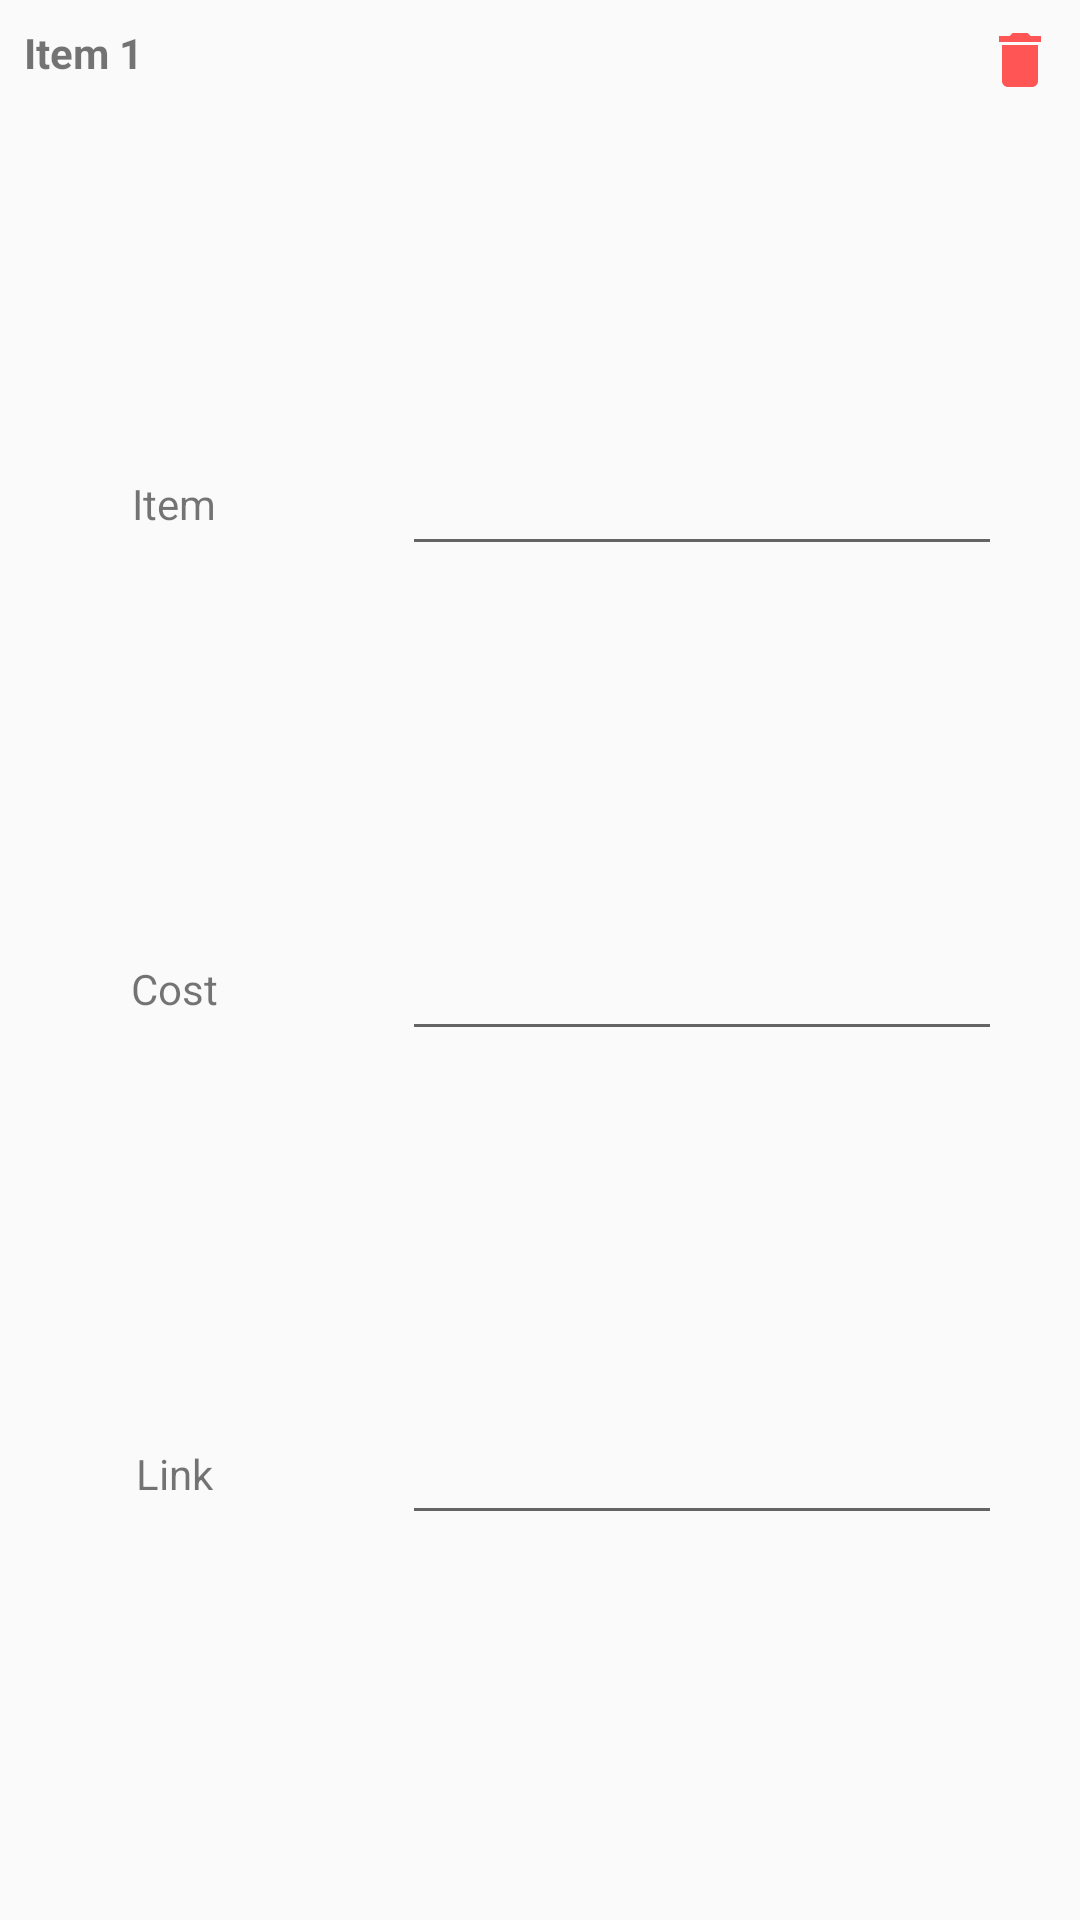

Where icons sit on this 1080×1920 app screen, as (x1, y1, x2, y2):
delete: (999, 33, 1041, 87)
